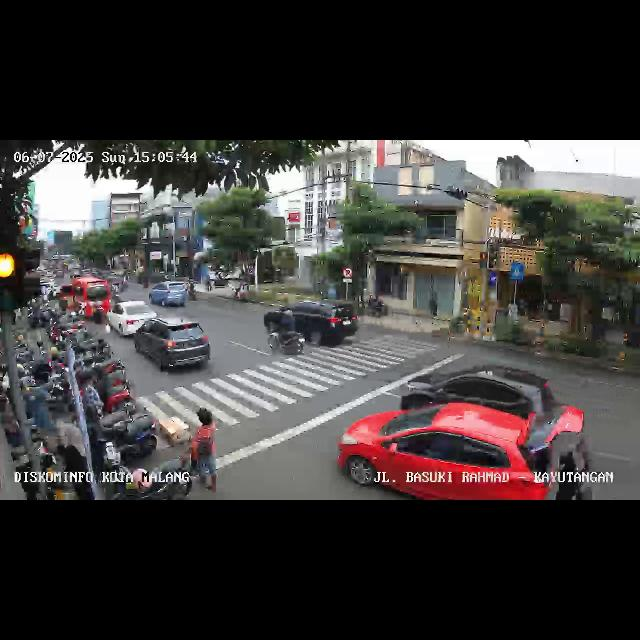car: (338, 405, 556, 499), (400, 364, 558, 420), (133, 310, 214, 380), (276, 298, 358, 344), (59, 276, 111, 320), (107, 300, 157, 338), (148, 280, 190, 310)
motorcycle: (263, 304, 307, 358)
person: (192, 406, 220, 494)
